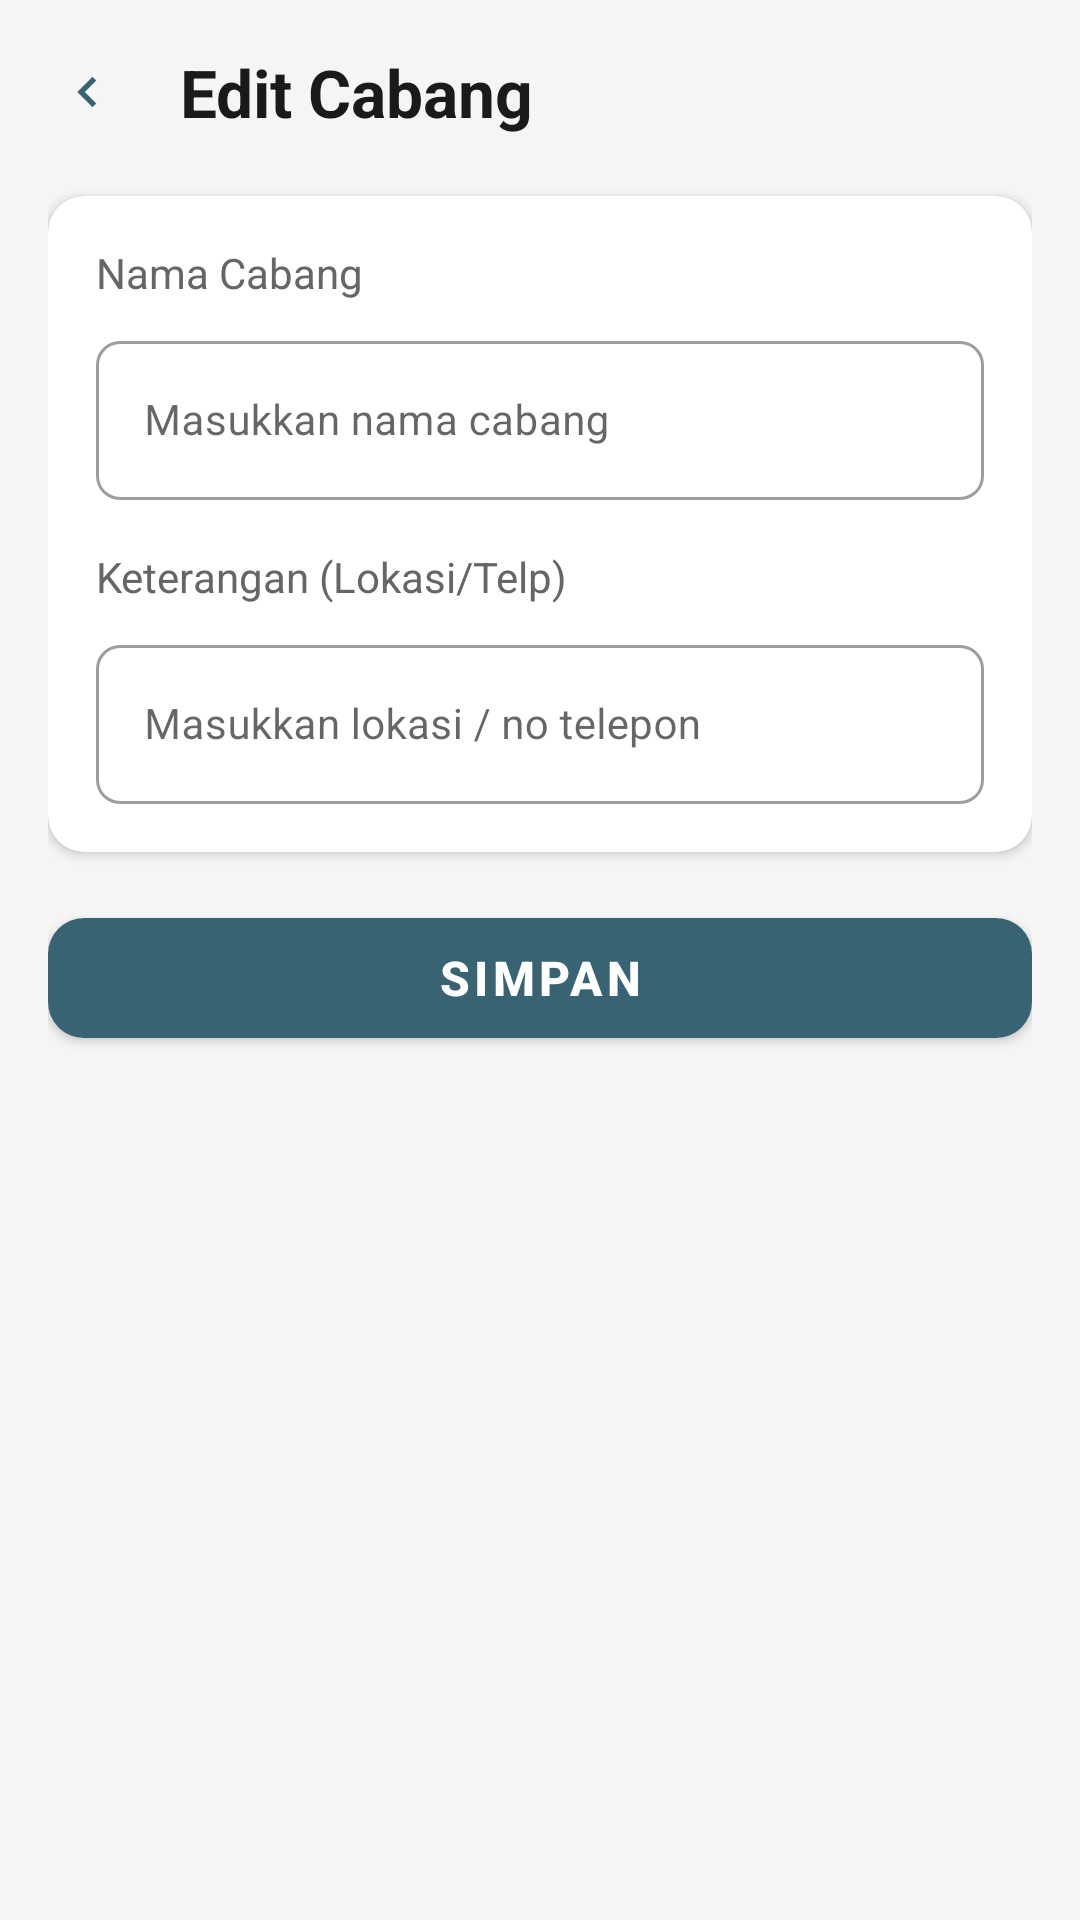

Named icons in this screenshot (1080*1920) and their bounding boxes, (x1, y1, x2, y2):
back: (77, 77, 96, 107)
